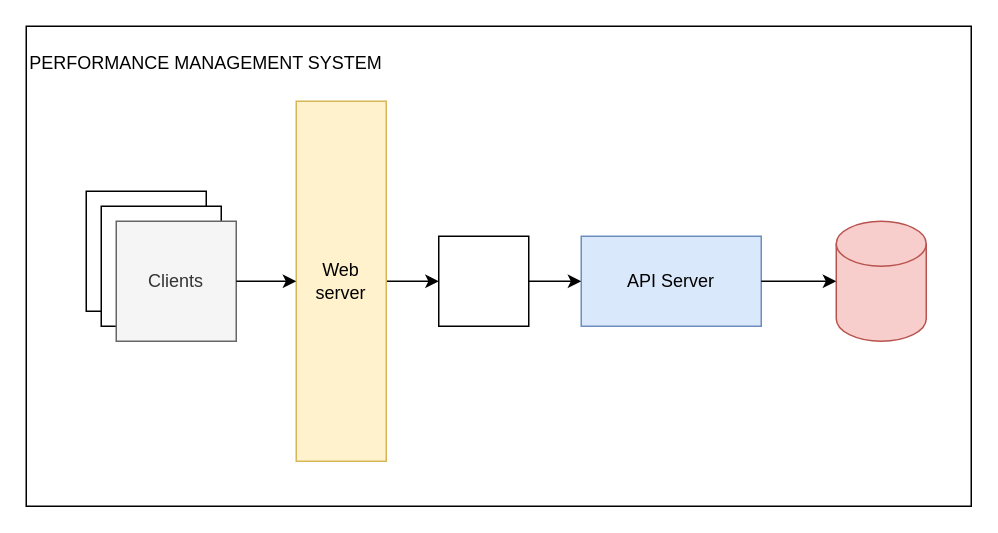
The diagram is 998 pixels wide and 533 high, and some of its shapes have lost their labels. Here are the shapes that lost their labels. From the top down, the centre of each, then its label:
the point at 483,280: Auth
the point at 880,280: Database
